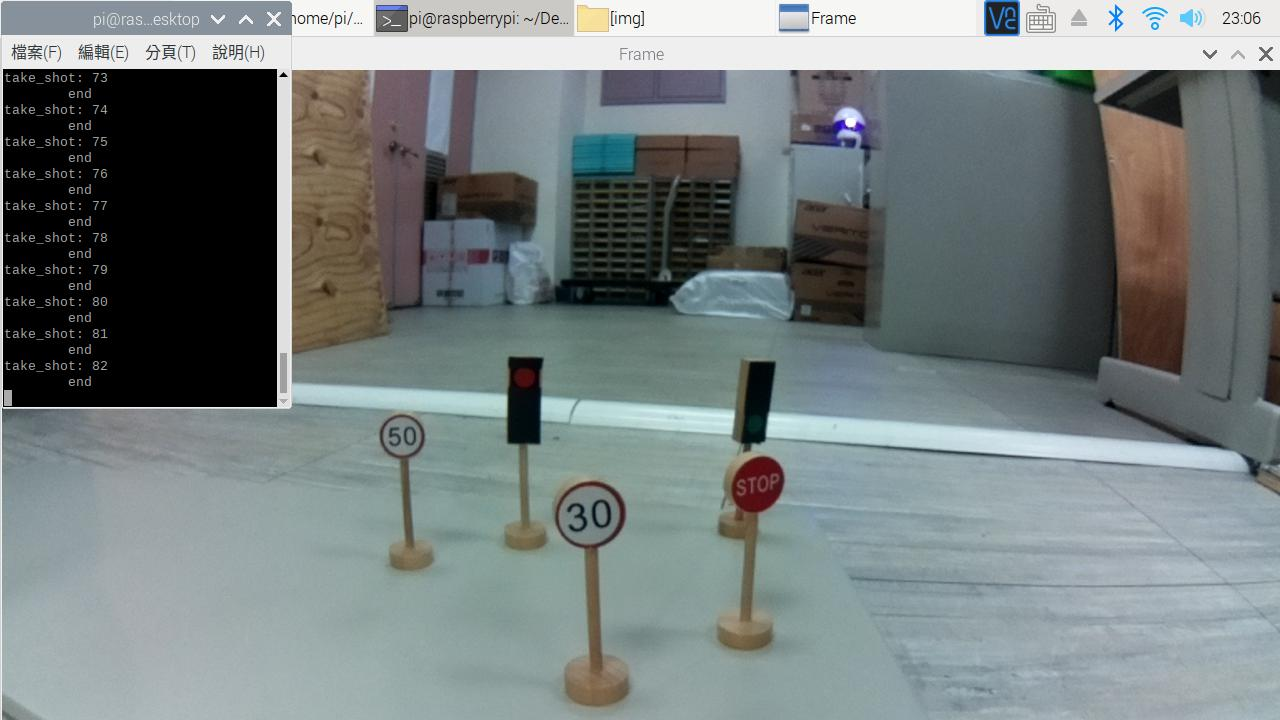Green: (730, 353, 780, 444)
Red: (500, 349, 557, 457)
Speed30: (549, 482, 637, 553)
Speed50: (378, 414, 437, 460)
Stop: (720, 448, 793, 524)
